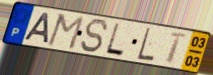A: (23, 11, 52, 45)
L: (104, 22, 126, 58), (136, 27, 156, 63)
M: (45, 12, 86, 51)
S: (79, 18, 109, 55)
T: (165, 31, 189, 66)
